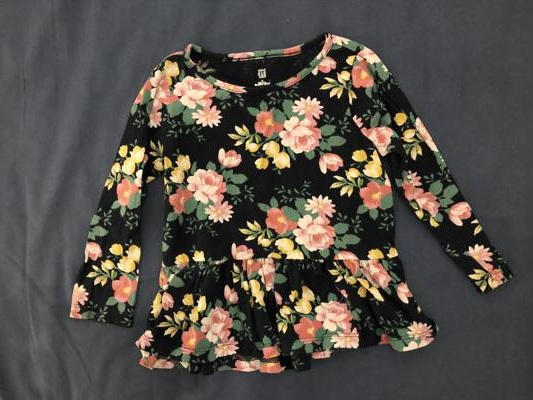Dress: (64, 22, 499, 387)
